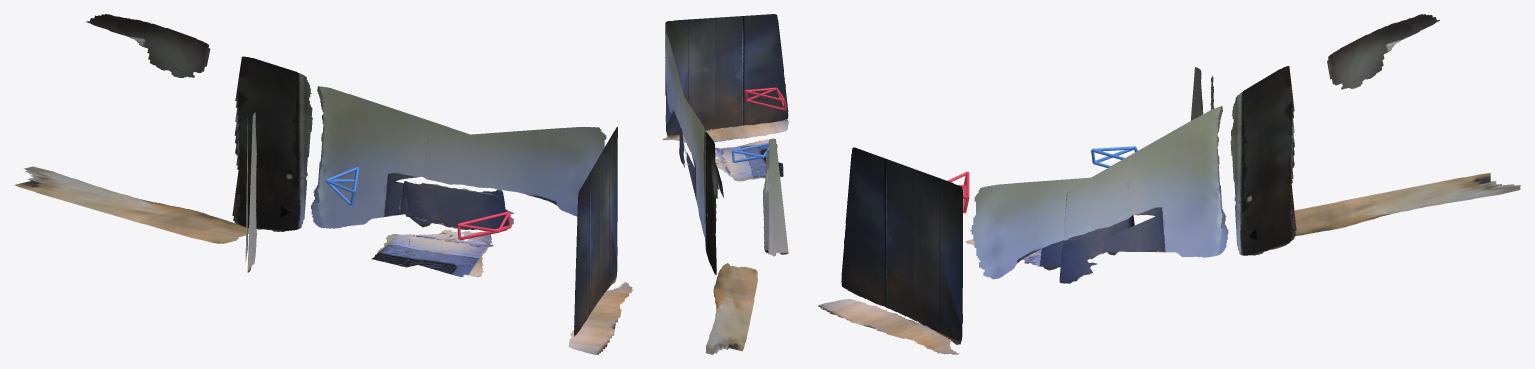
Rendered from pred.glb.
The picture shows the model from 3 angles, left to right: view 1: azimuth 30°, elevation 25°; view 2: azimuth 150°, elevation 25°; view 3: azimuth 270°, elevation 25°; orthographic projection. The views are drawn at different scales.
Parts seen in each view (by area): view 1: Node; view 2: Node; view 3: Node.
Boxes of the visible parts, x1,y1,x2,y2 form: Node: (14, 14, 633, 354); Node: (662, 14, 788, 354); Node: (818, 14, 1520, 354).
Size of the model in its own units: 5.71 by 2.81 by 9.24.
18 materials, 16 textured.
